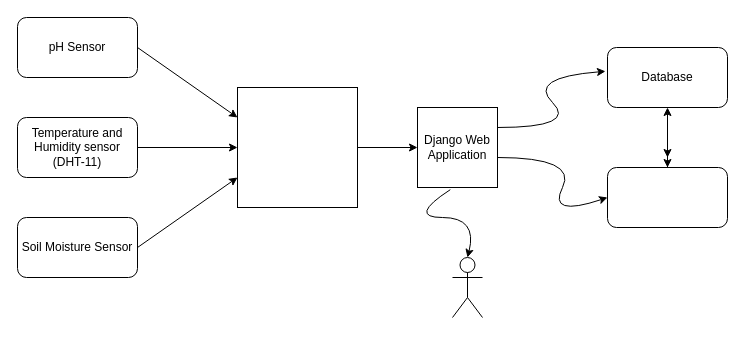
This 745x356 diagram has some shape labels left out. Each missing label, with the centre of its shape:
Arduino UNO ATmega328P: pixel 297 147
ML Model: pixel 667 197
User: pixel 467 287
